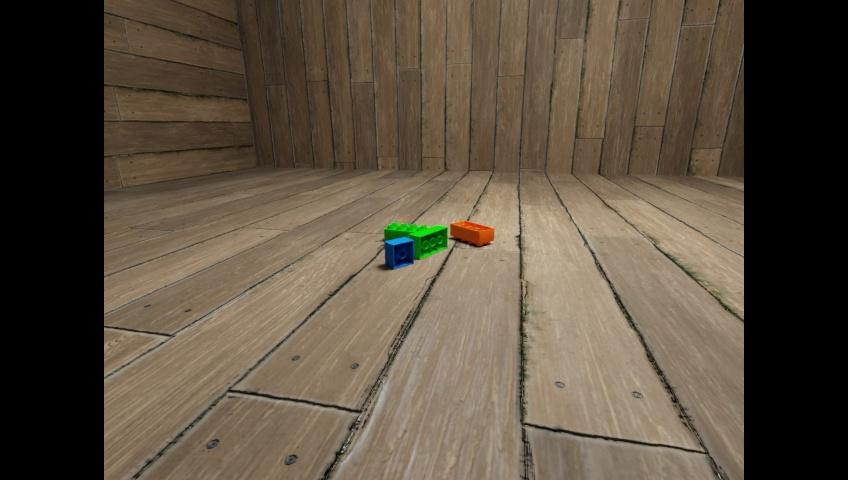2x2_blue: (385, 236, 413, 268)
4x2_green: (408, 224, 448, 259), (384, 221, 428, 241)
4x2_orange: (450, 220, 493, 246)
